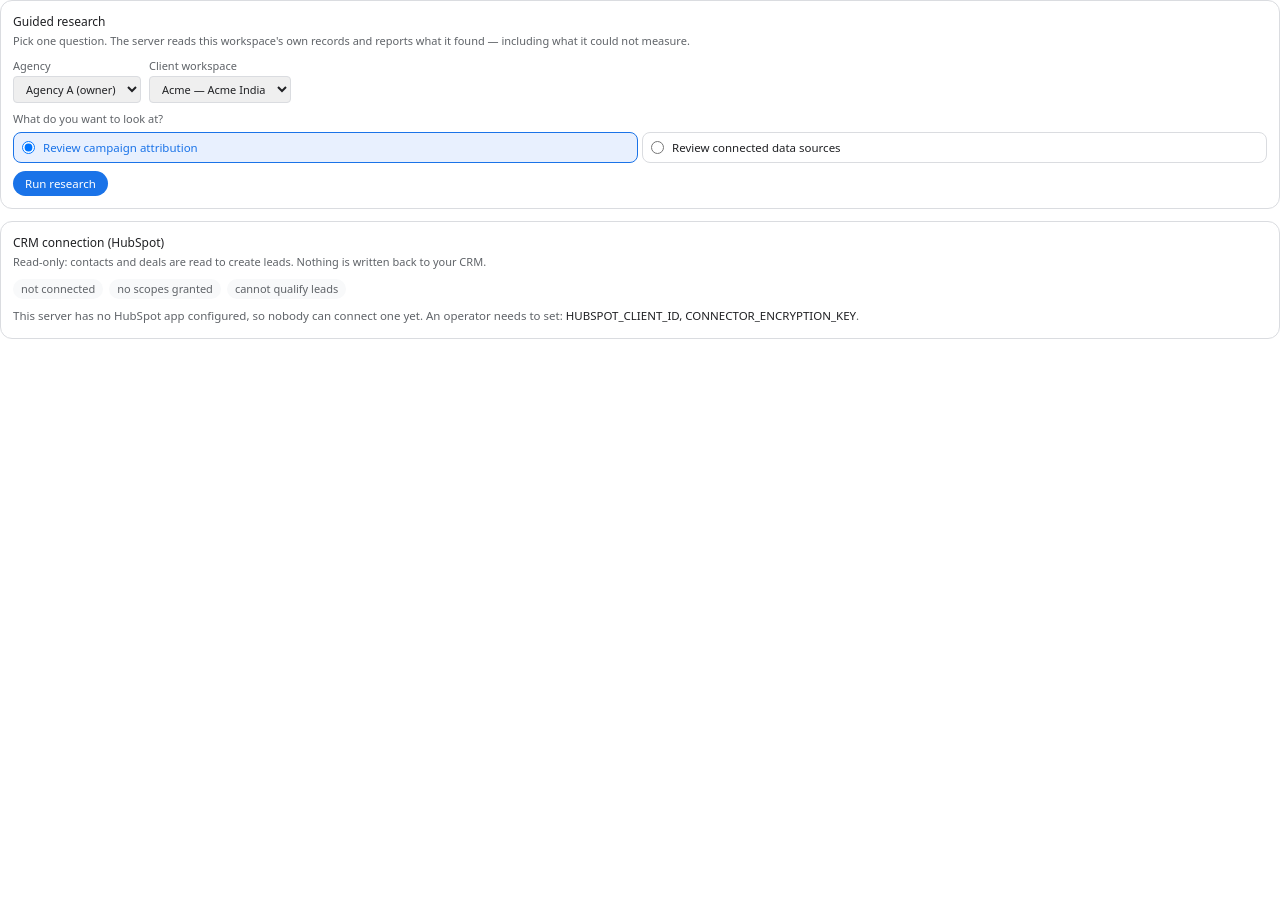
Test: guided research › marks a capped count as a minimum instead of presenting it as a total
Expected: the text "Review campaign attribution" is shown, [13,132,638,163]
Click the button "Run research".
click(60, 183)  # box [13,171,108,196]
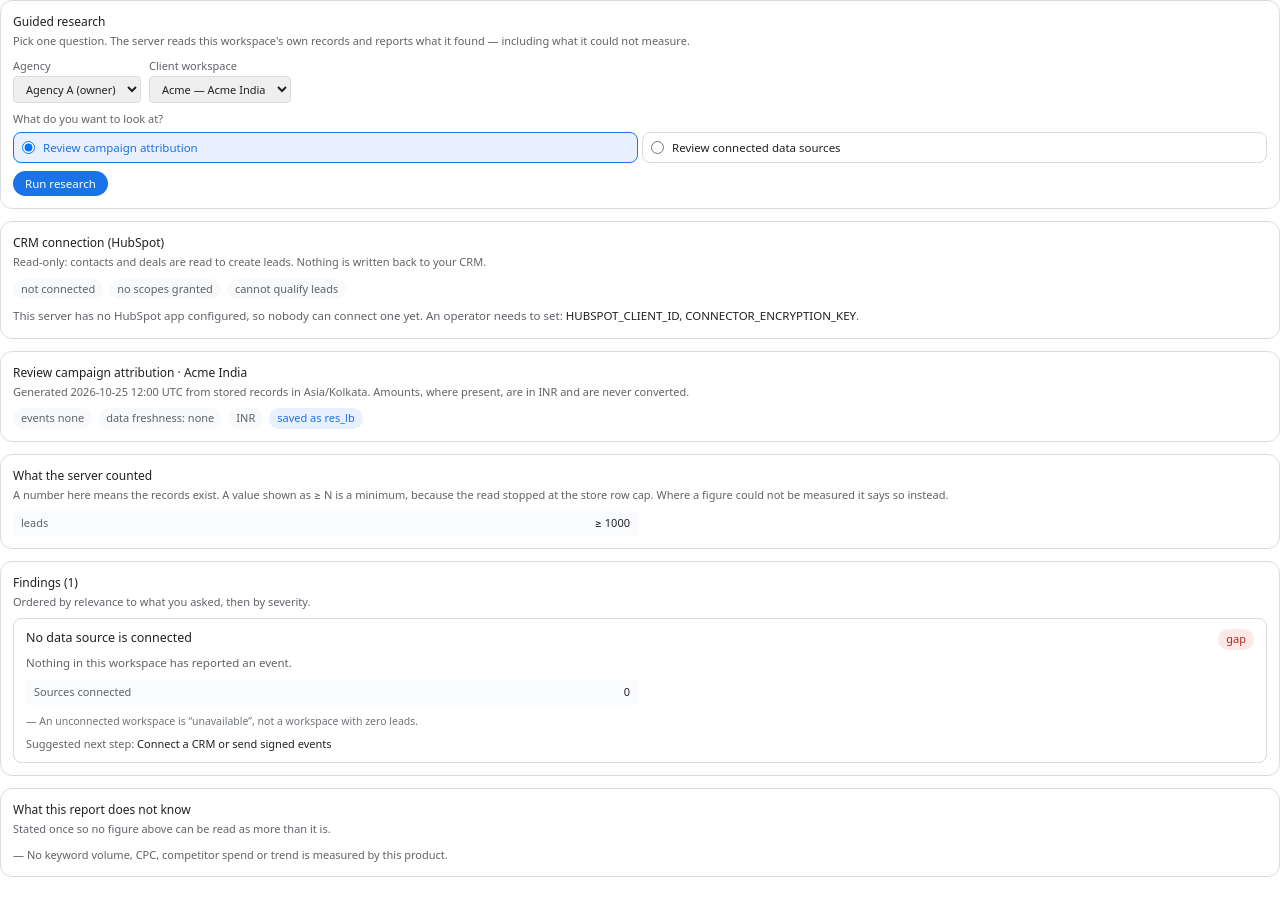
Expected: the element with test id "research-report" is shown, [0,351,1279,877]
Expected: the element with test id "research-report" shows "≥ 1000", [595,515,630,530]
Expected: the element with test id "research-report" shows "store row cap", [13,487,948,502]
